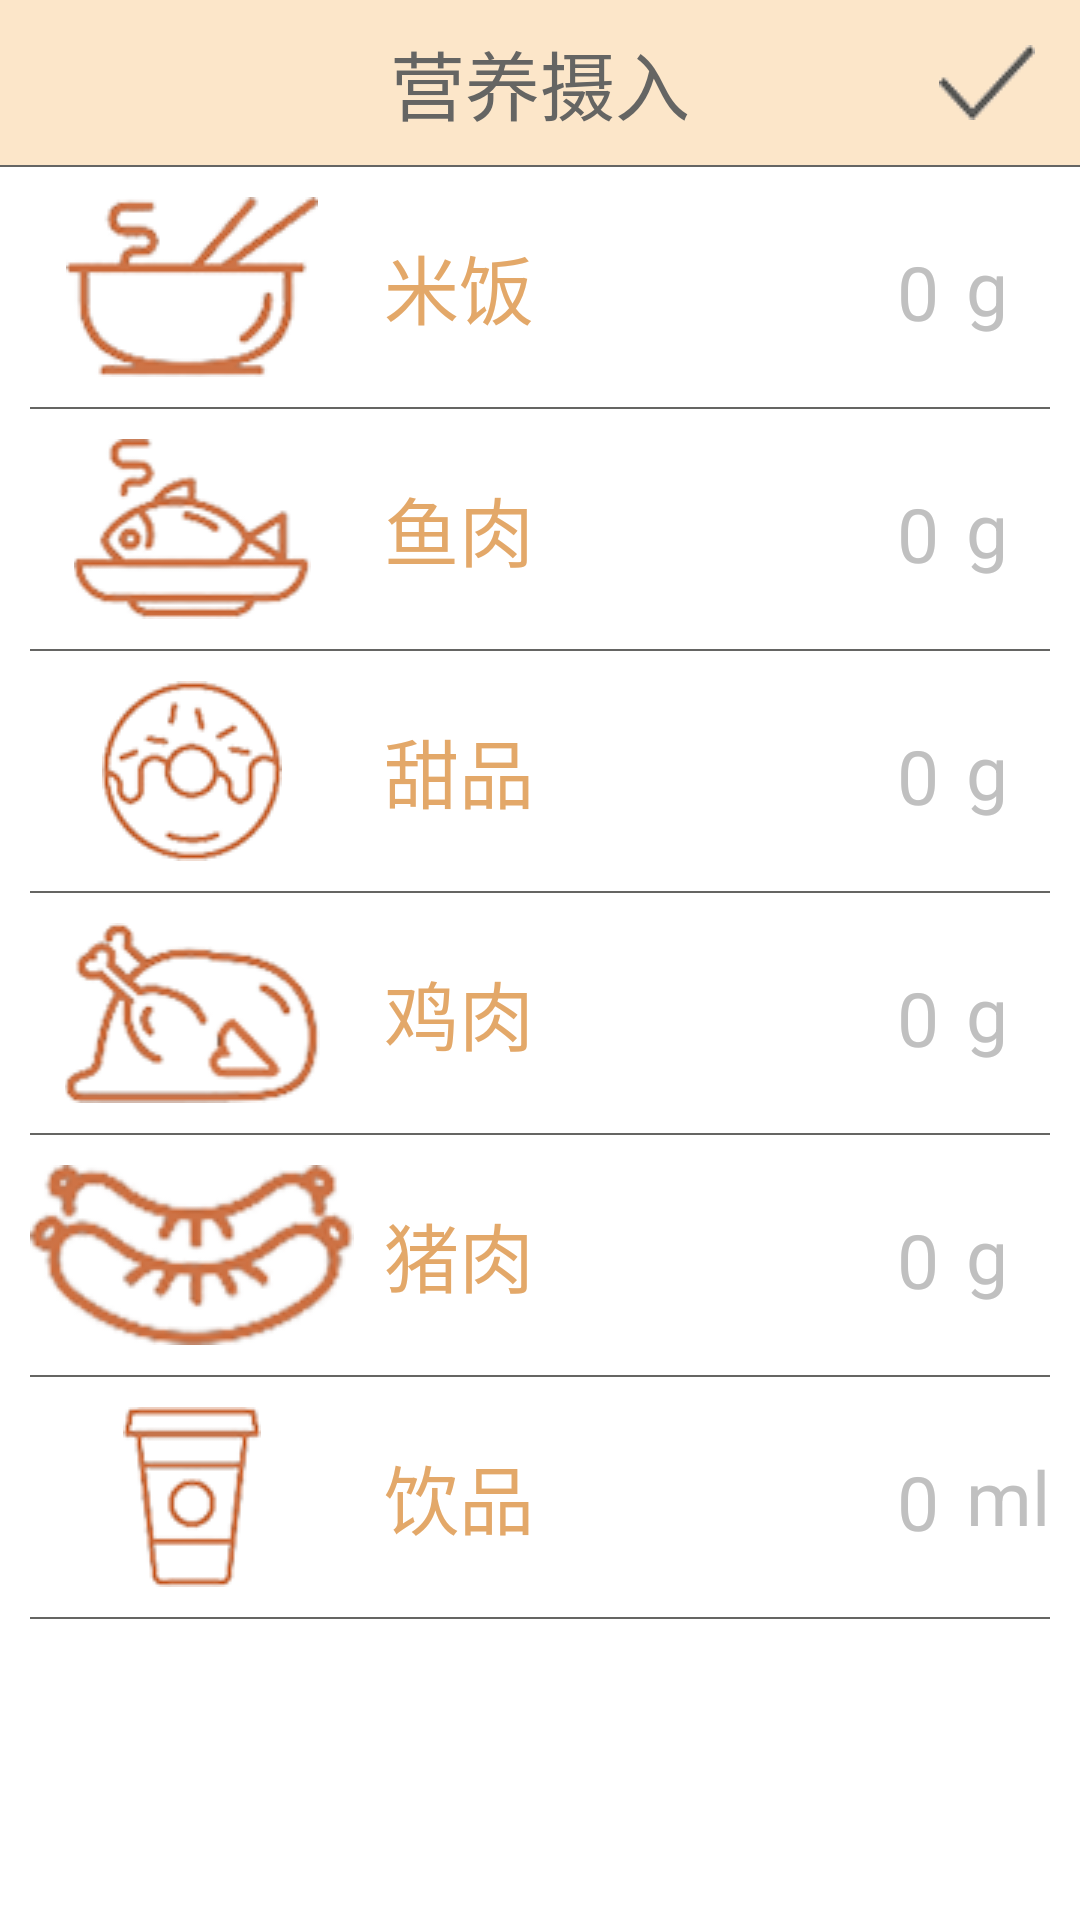

Locate icon controls on the screen. Image size 1080*1920, boxes as (x1, y1, x2, y2).
dessert pic: (102, 681, 282, 861)
drink pic: (123, 1407, 261, 1587)
fish pic: (74, 439, 309, 619)
top tab save: (939, 45, 1035, 120)
